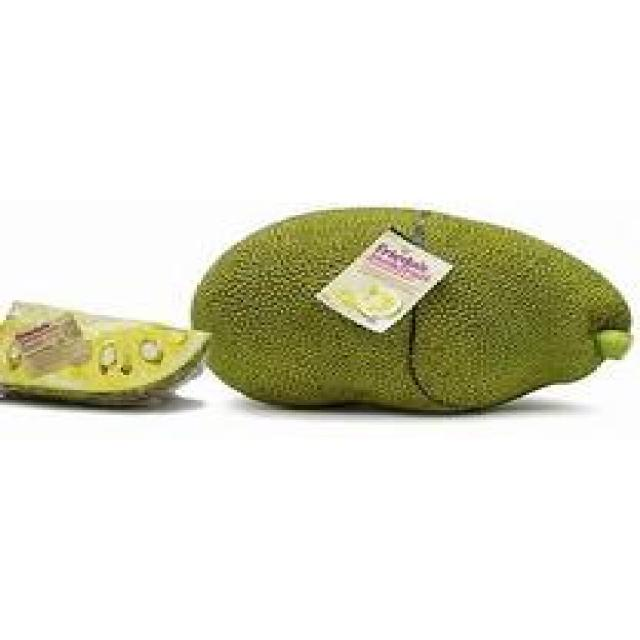Fruit: (178, 195, 477, 437), (384, 195, 640, 430)
